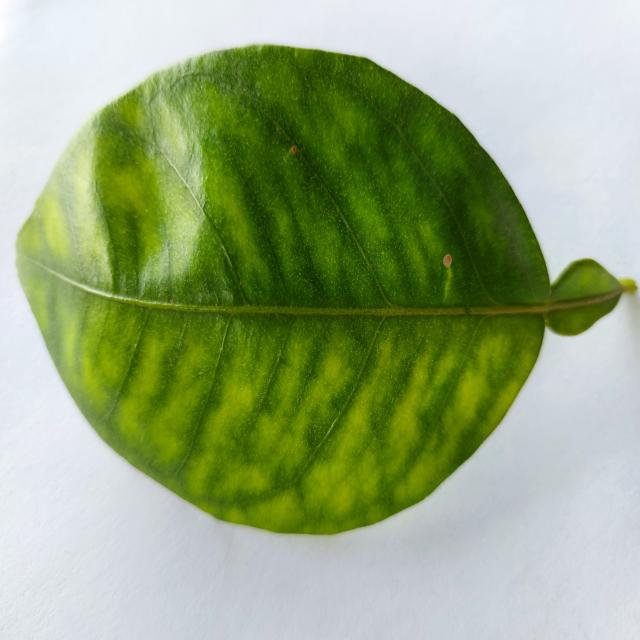greening: (16, 46, 632, 533)
